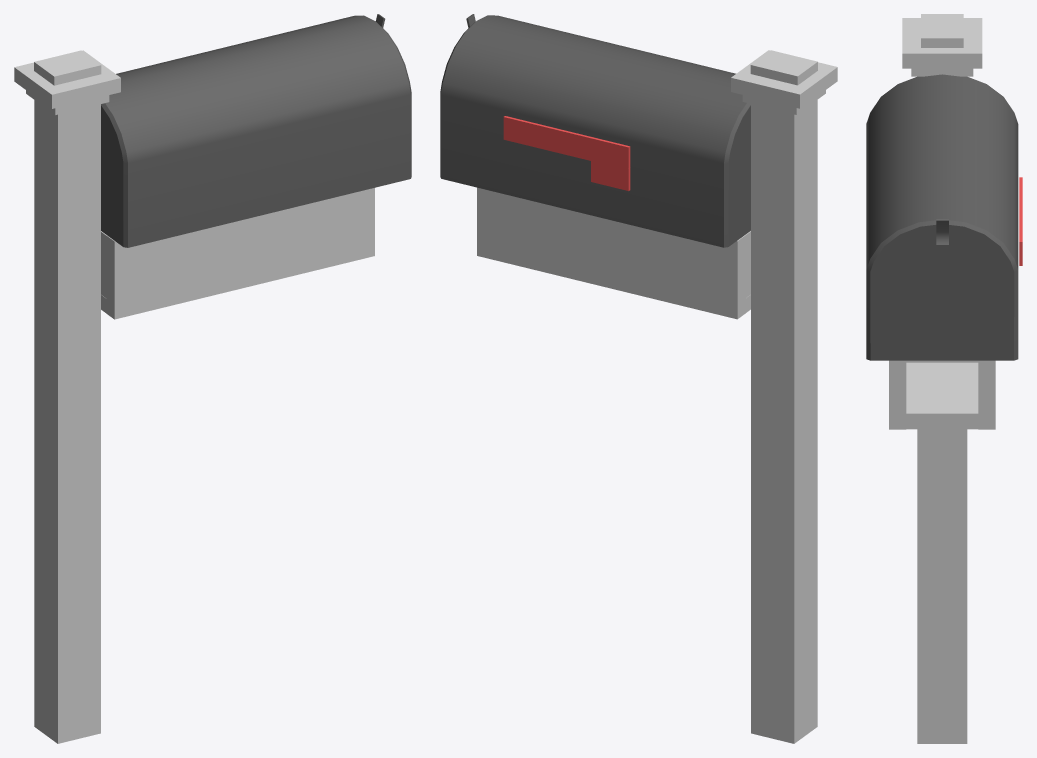
Rendered from Mailbox.fbx.
The picture shows the model from 3 angles, left to right: view 1: azimuth 30°, elevation 25°; view 2: azimuth 150°, elevation 25°; view 3: azimuth 270°, elevation 25°; orthographic projection. The views are drawn at different scales.
Visible parts, largest first — view 1: Rectangle with bevel; view 2: Rectangle with bevel; view 3: Rectangle with bevel.
Boxes of the visible parts, bbox=[...] form: Rectangle with bevel: bbox=[14, 14, 411, 743]; Rectangle with bevel: bbox=[440, 14, 837, 743]; Rectangle with bevel: bbox=[866, 14, 1022, 743].
Size of the model in its own units: 190 by 346 by 69.32.
